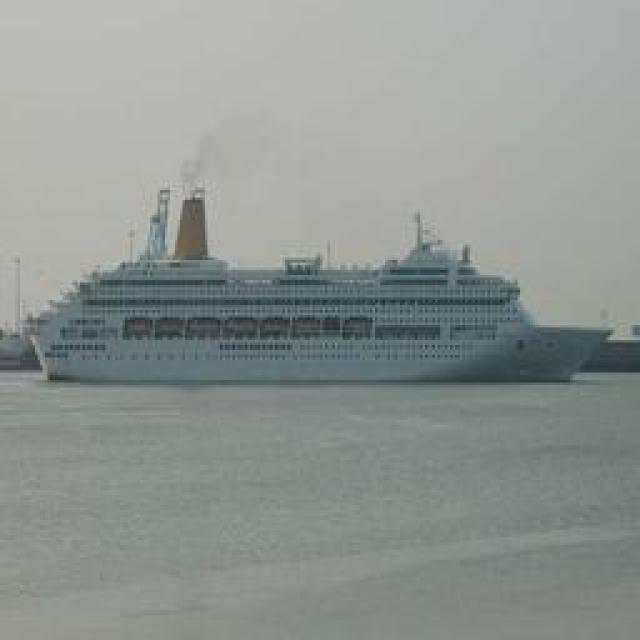Ship: (25, 206, 618, 389)
